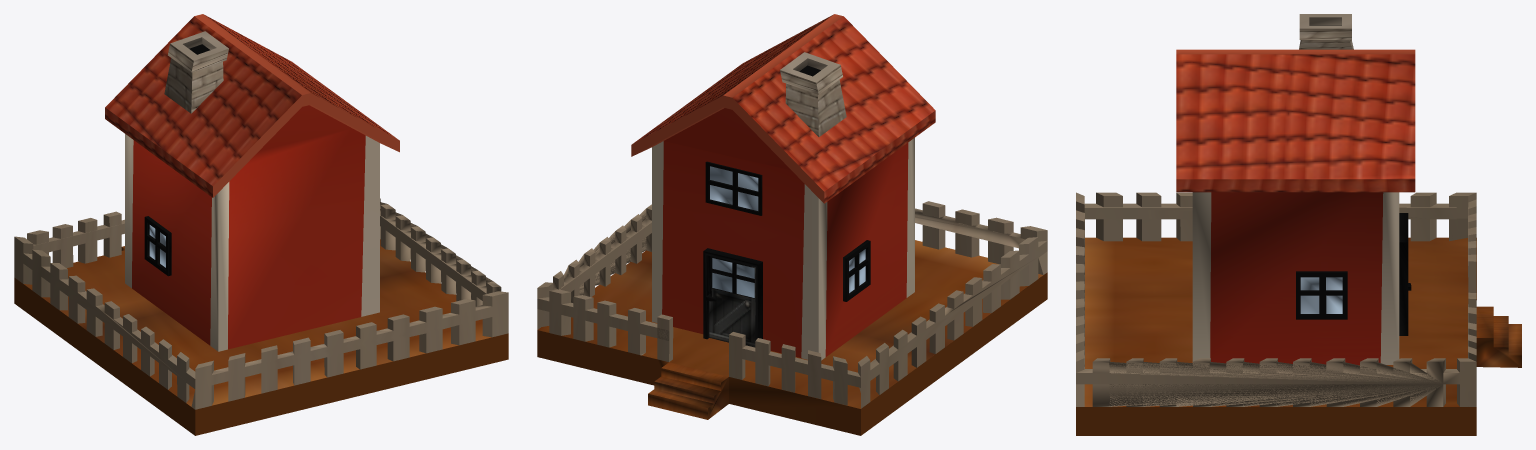
Rendered from müstakil ev.fbx.
3 views of the same model, side by side, from view 1: azimuth 30°, elevation 25°; view 2: azimuth 150°, elevation 25°; view 3: azimuth 270°, elevation 25° (orthographic). The views are drawn at different scales.
Parts seen in each view (by area): view 1: Cube.003; view 2: Cube.003; view 3: Cube.003.
Boxes of the visible parts, bbox=[...] form: Cube.003: bbox=[14, 14, 508, 435]; Cube.003: bbox=[537, 14, 1047, 435]; Cube.003: bbox=[1076, 14, 1521, 435].
Size of the model in its own units: 254 by 218 by 282.
Materials: 1 (1 with a texture image).
